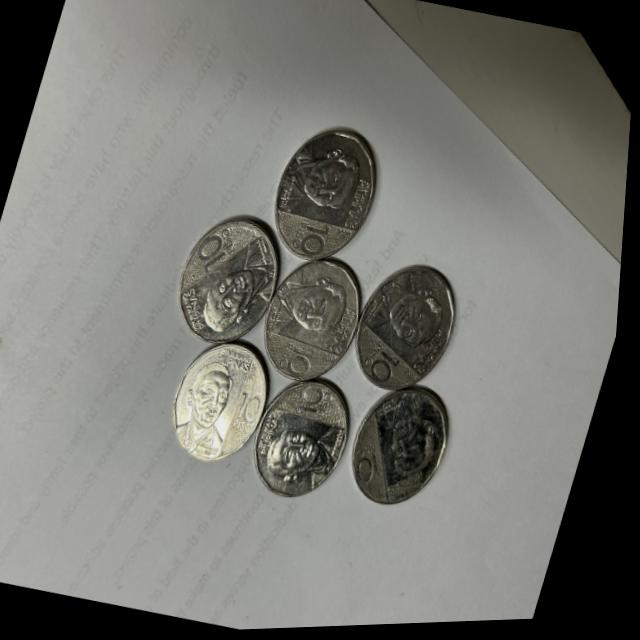10_New_Front: (190, 222, 252, 287), (284, 209, 344, 267), (357, 339, 411, 389), (229, 383, 269, 442), (277, 335, 326, 381), (357, 437, 397, 491), (294, 383, 339, 427)
